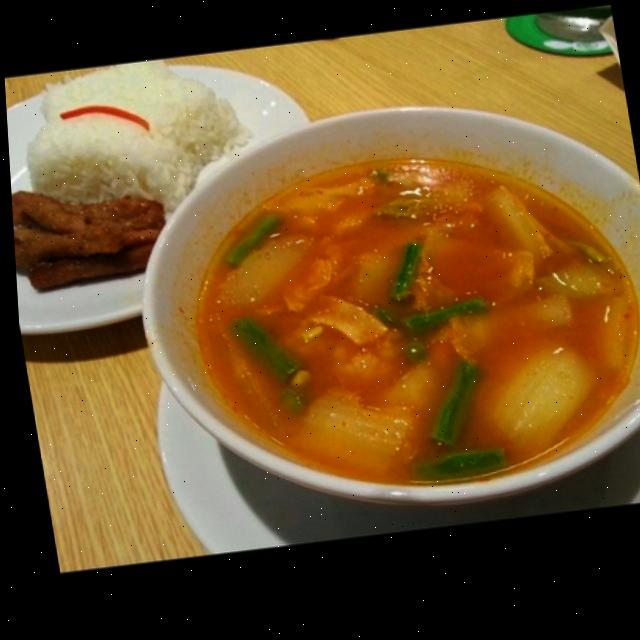汤锅炖物: (116, 113, 640, 526)
